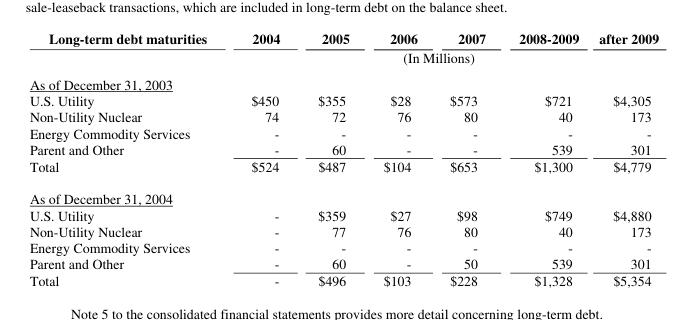table: (28, 28, 658, 289)
table column: (28, 28, 228, 289), (501, 28, 588, 289), (228, 28, 298, 289), (588, 28, 658, 289), (365, 28, 433, 289), (433, 28, 501, 289), (298, 28, 365, 289)
table column header: (28, 28, 658, 70)
table projected row header: (28, 181, 658, 206), (28, 70, 658, 91)
table row: (28, 156, 658, 181), (28, 181, 658, 206), (28, 47, 658, 70), (28, 70, 658, 91), (28, 28, 658, 47), (28, 271, 658, 289), (28, 107, 658, 124), (28, 254, 658, 271), (28, 91, 658, 107), (28, 124, 658, 140), (28, 140, 658, 156), (28, 206, 658, 222), (28, 222, 658, 238), (28, 238, 658, 254)
table spanning cell: (228, 47, 658, 70), (28, 28, 228, 70)
